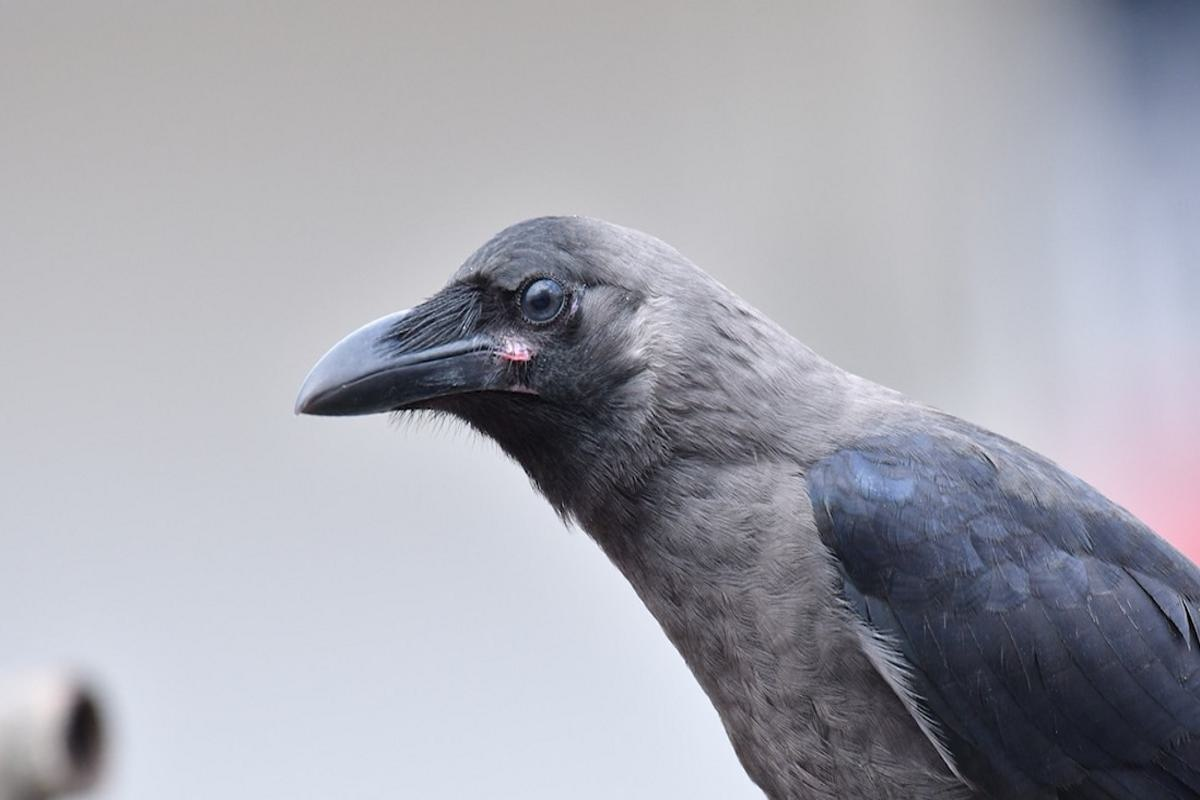crow: (301, 200, 1188, 800)
